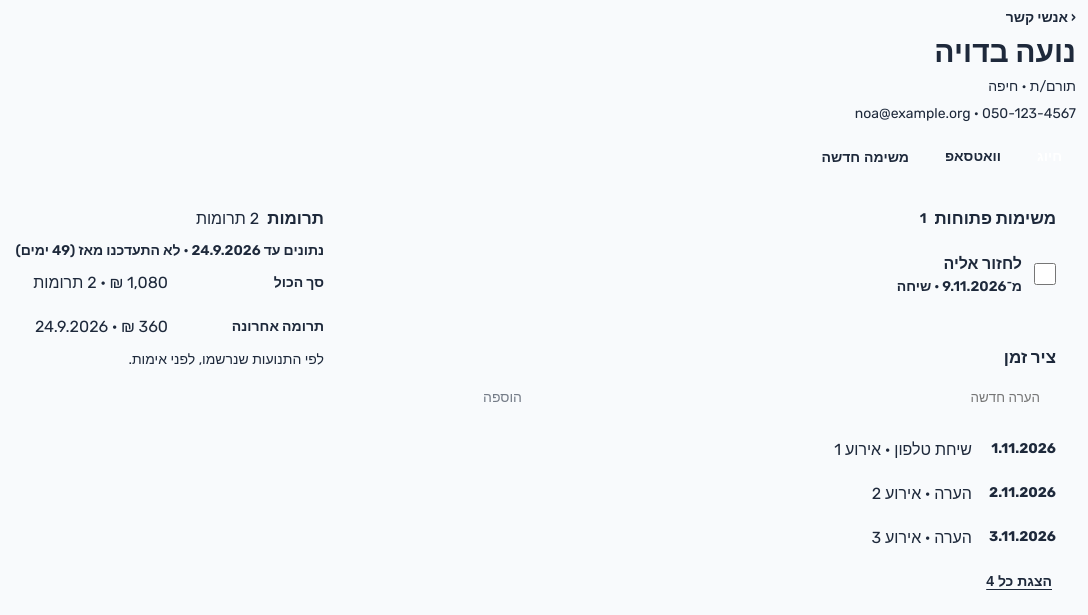
MgmtPersonPage › shows the latest three timeline entries and the rest on request
The image size is (1088, 615).
expect the text "שיחת טלפון · אירוע 1" is shown: met, box [834, 440, 972, 459]
expect the text "אירוע 4" is not shown: met
Click the button "הצגת כל 4" at (1019, 581), box [982, 564, 1056, 598]
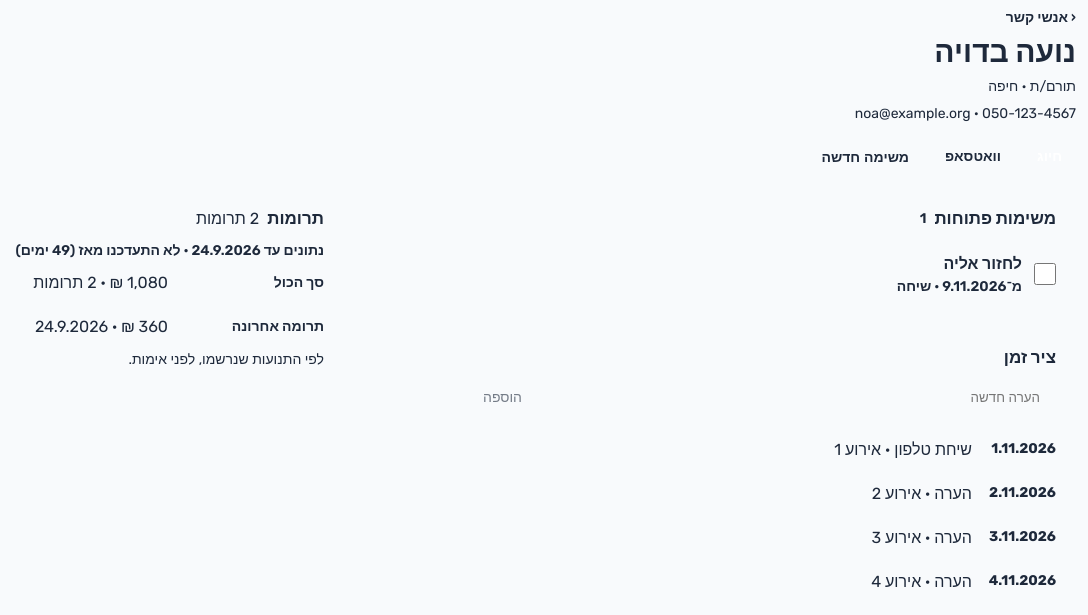
expect the text "הערה · אירוע 4" is shown: met, box [871, 572, 972, 591]
